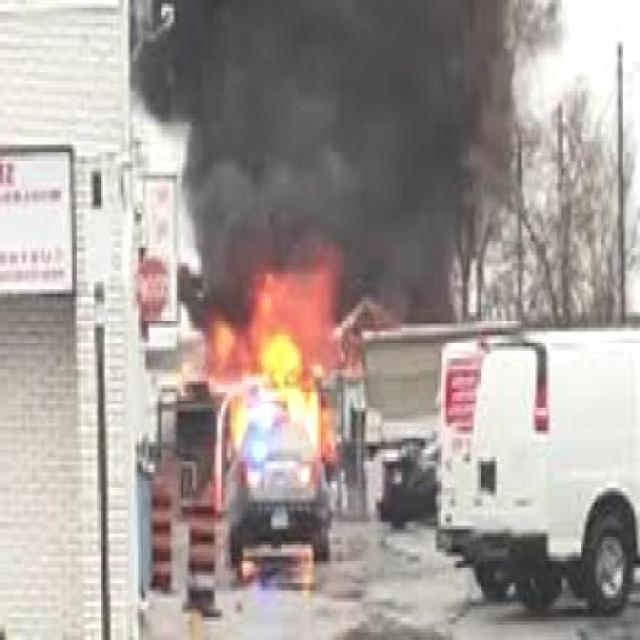Fire: (205, 245, 368, 492)
Smoke: (130, 0, 546, 245)
